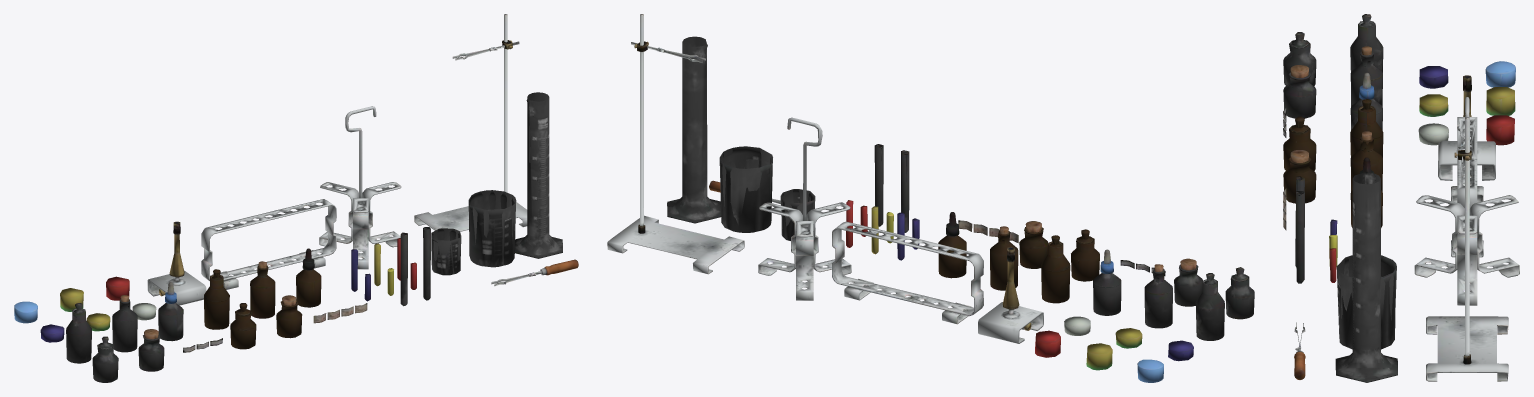
The model's file is chemistry_set.glb.
The picture shows the model from 3 angles, left to right: view 1: azimuth 30°, elevation 25°; view 2: azimuth 150°, elevation 25°; view 3: azimuth 270°, elevation 25°; orthographic projection. The views are drawn at different scales.
Parts seen in each view (by area): view 1: chemistry_set_beaker_large, chemistry_set_test_tube_content_b; view 2: chemistry_set_beaker_large, chemistry_set_test_tube_content_b; view 3: chemistry_set_beaker_large, chemistry_set_test_tube_content_b.
Part boxes in pixels (x1,y1,x2,y2): chemistry_set_beaker_large: [40, 92, 562, 382]; chemistry_set_test_tube_content_b: [14, 14, 578, 339]; chemistry_set_beaker_large: [667, 36, 1254, 370]; chemistry_set_test_tube_content_b: [607, 14, 1196, 382]; chemistry_set_beaker_large: [1283, 14, 1515, 382]; chemistry_set_test_tube_content_b: [1290, 46, 1519, 381].
Bounding box in the file's own units: 1.08 × 0.4278 × 0.3534.
Materials: 2 (2 with a texture image).
